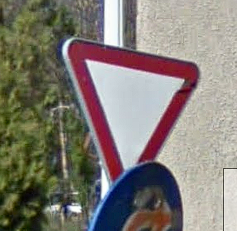cedeaza: (58, 27, 203, 207)
